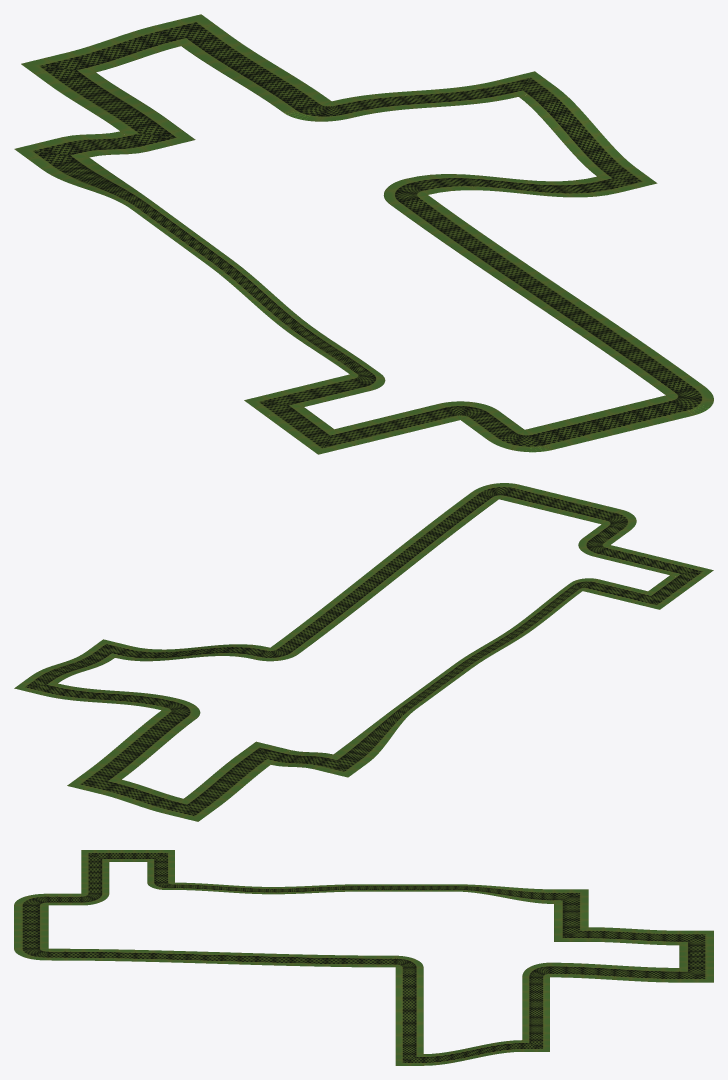
The model's file is Pass3.obj.
3 renders of one model, top to bottom at view 1: azimuth 30°, elevation 25°; view 2: azimuth 150°, elevation 25°; view 3: azimuth 270°, elevation 25°, orthographic. The views are drawn at different scales.
Size of the model in its own units: 2218 by 200 by 3630.
1 material, 1 textured.
